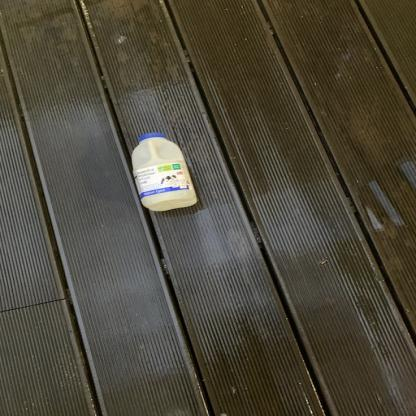trash: (131, 133, 200, 215)
